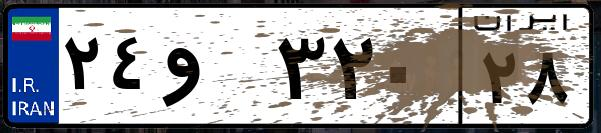0: (385, 28, 445, 110)
2: (330, 28, 385, 110), (57, 26, 110, 100), (475, 38, 525, 113)
3: (270, 28, 330, 110)
4: (110, 28, 158, 98)
8: (525, 38, 570, 115)
و: (158, 20, 270, 120)
